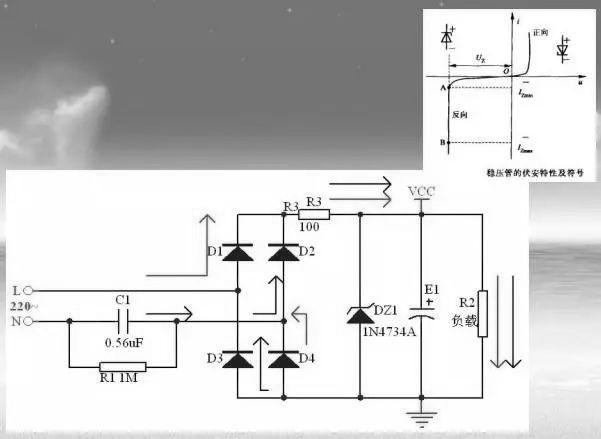cap1: (110, 307, 134, 336)
cap2: (407, 298, 437, 322)
diode: (219, 239, 256, 265), (267, 238, 300, 266), (347, 301, 377, 328), (267, 348, 302, 371), (220, 349, 256, 371)
gnd: (404, 408, 438, 431)
res1: (476, 288, 492, 341), (96, 359, 150, 374), (296, 207, 333, 223)
